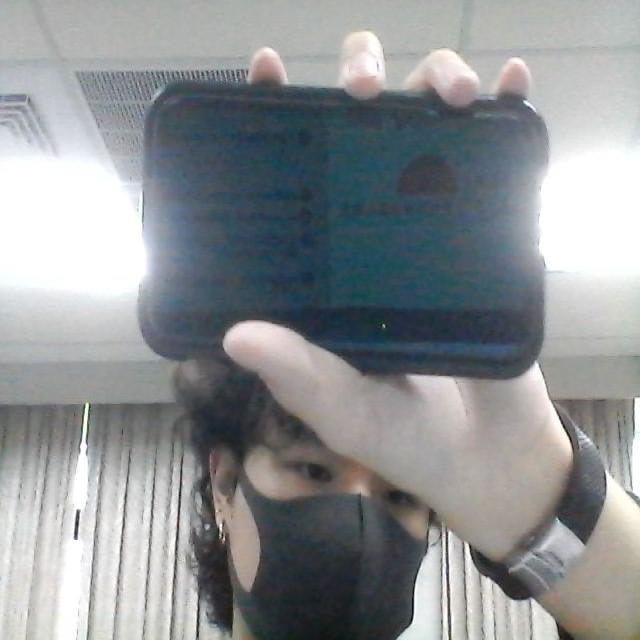Phone: (136, 80, 549, 380)
